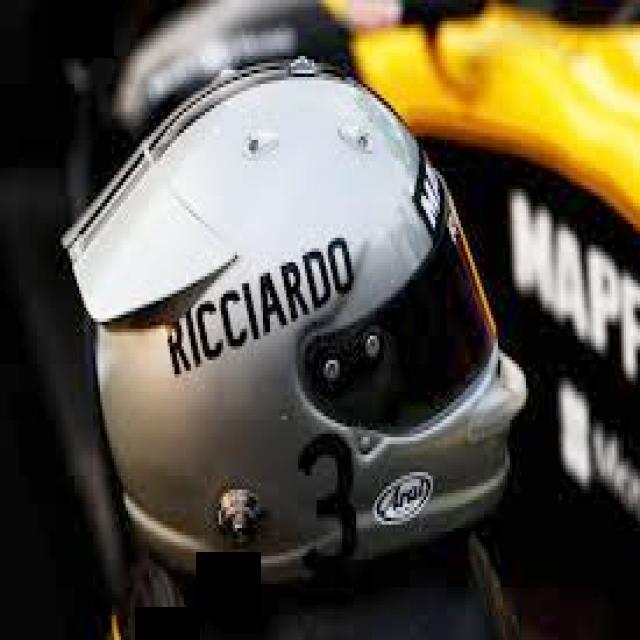helmet: (55, 70, 533, 579)
